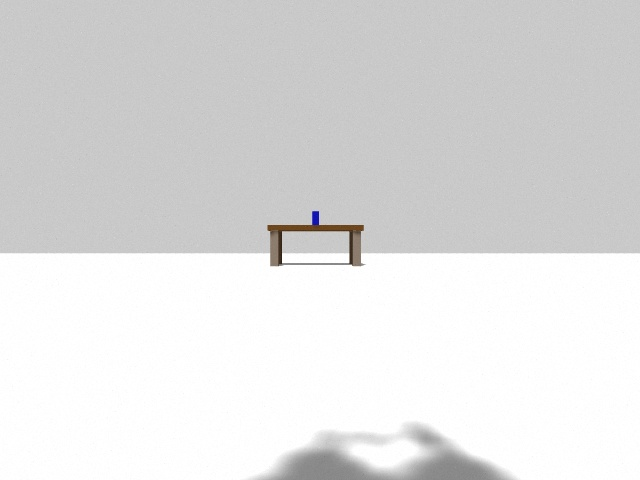blue_cube: (312, 211, 319, 225)
